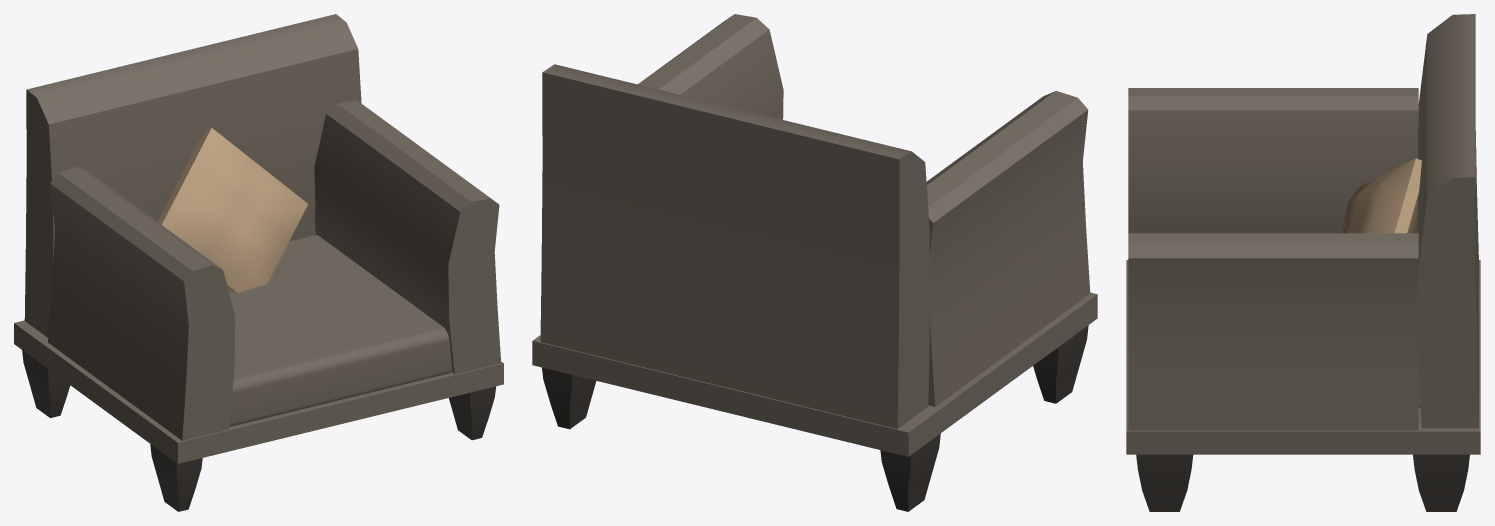
File: sofa_1.fbx
The picture shows the model from 3 angles, left to right: view 1: azimuth 30°, elevation 25°; view 2: azimuth 150°, elevation 25°; view 3: azimuth 270°, elevation 25°; orthographic projection. The views are drawn at different scales.
Parts seen in each view (by area): view 1: pCube56; view 2: pCube56; view 3: pCube56.
Part boxes in pixels (x1,y1,x2,y2): pCube56: [14, 14, 503, 511]; pCube56: [532, 14, 1097, 511]; pCube56: [1126, 14, 1480, 511].
Bounding box in the file's own units: 4.16 × 3.8 × 3.62.
